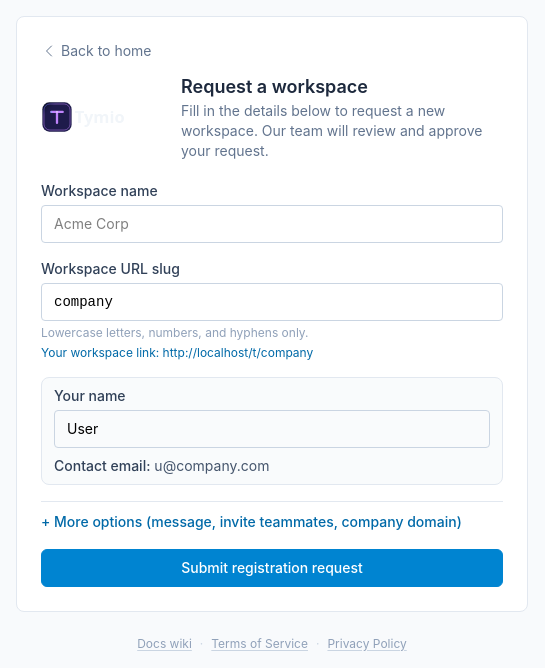
Test: RegisterTeamPage › shows E2-sent copy on auto-approved success when API reports requester notified
Type "My Team" into the field with placeholder "Acme Corp" at (272, 224), box [41,205,503,243]
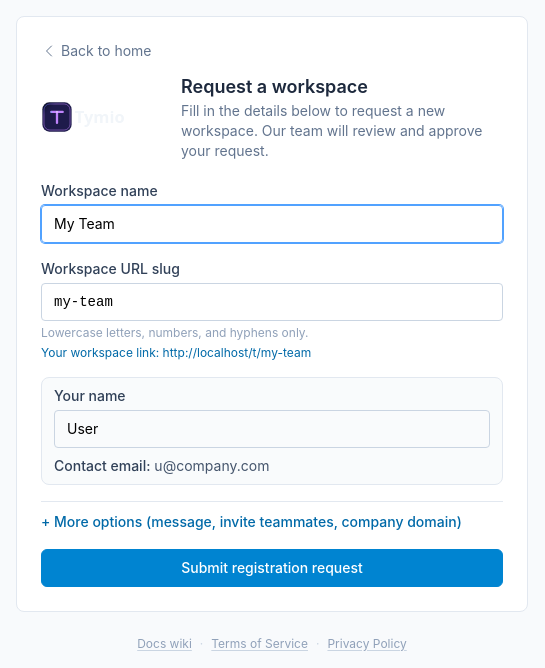
Click the button "Submit registration request" at (272, 568), box [41,549,503,587]
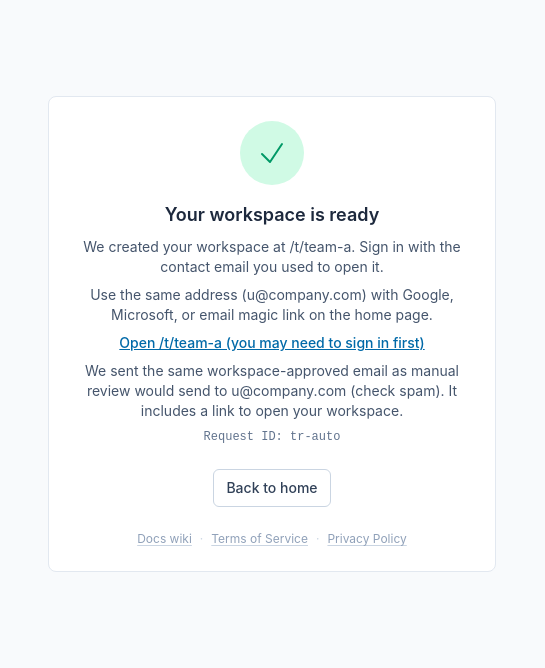
Expected: the text "workspace-approved email" is shown, [85,362,459,419]
